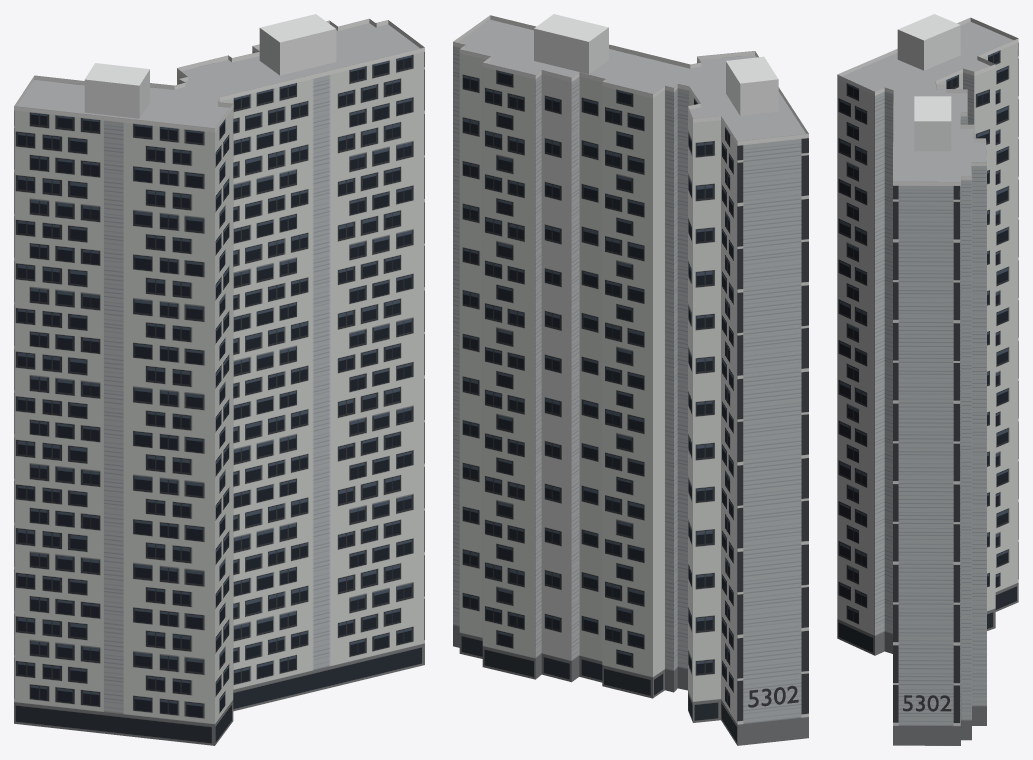
The model's file is dasan-5302.glb.
3 views of the same model, side by side, from view 1: azimuth 30°, elevation 25°; view 2: azimuth 150°, elevation 25°; view 3: azimuth 270°, elevation 25° (orthographic). The views are drawn at different scales.
Parts seen in each view (by area): view 1: apt_body, apt_roof, apt_rooftop_0, apt_rooftop_1, apt_parapet_in; view 2: apt_body, apt_roof, apt_rooftop_0, apt_rooftop_1, apt_parapet_in; view 3: apt_body, apt_roof, apt_rooftop_1, apt_rooftop_0, apt_parapet_in, apt_number_25.
Part boxes in pixels (x1,y1,x2,y2): apt_body: (14,18,424,745); apt_roof: (17,23,419,128); apt_rooftop_0: (259,14,336,75); apt_rooftop_1: (84,63,149,118); apt_parapet_in: (14,19,424,132); apt_body: (453,15,808,745); apt_roof: (458,19,805,141); apt_rooftop_0: (534,14,608,74); apt_rooftop_1: (726,56,778,115); apt_parapet_in: (453,15,808,145); apt_body: (837,17,1018,745); apt_roof: (842,21,1013,181); apt_rooftop_1: (897,14,960,70); apt_rooftop_0: (914,96,951,151); apt_parapet_in: (837,18,1018,185); apt_number_25: (903,695,951,711).
Bounding box in the file's own units: 52.62 × 87.9 × 24.47.
4 materials, 1 textured.
